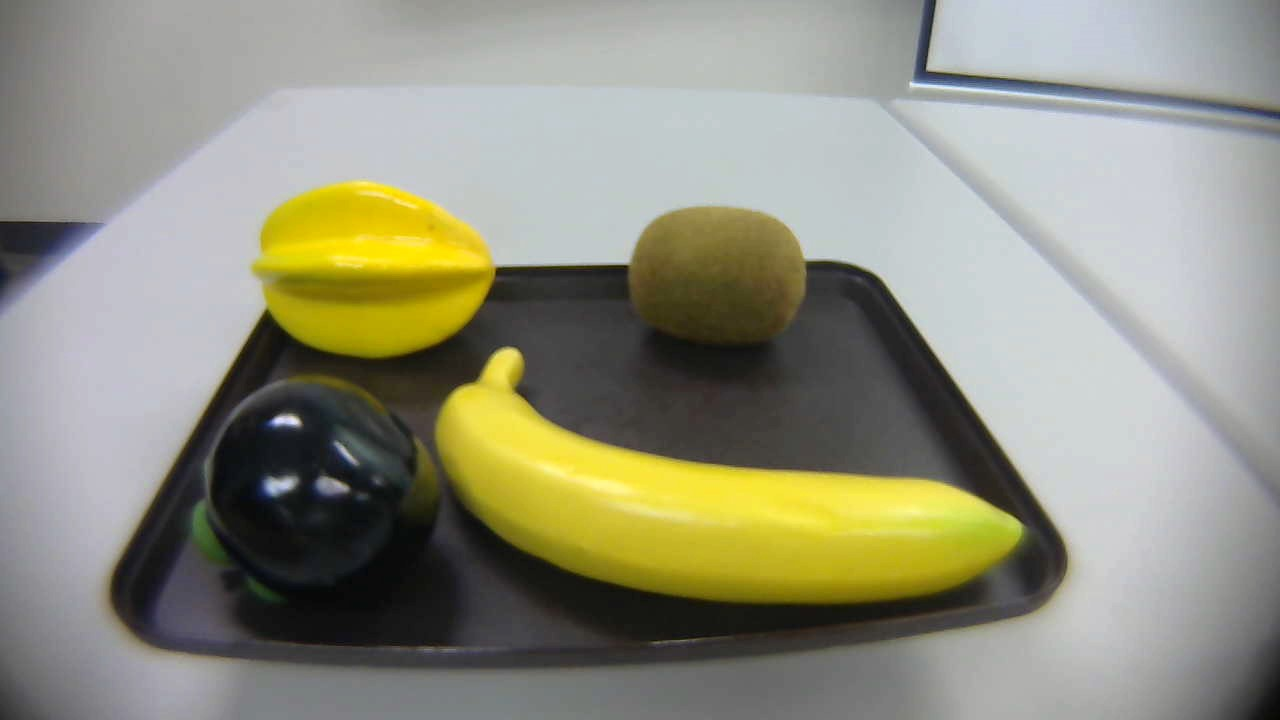banana: (430, 344, 1043, 629)
kiwi fruit: (628, 194, 815, 356)
mangosteen: (188, 368, 450, 615)
star fruit: (243, 174, 525, 374)
